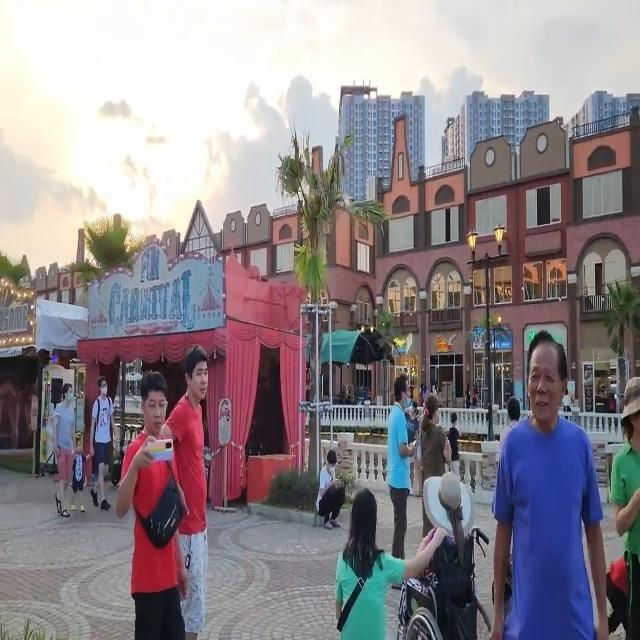hairnet: (398, 382, 412, 409)
